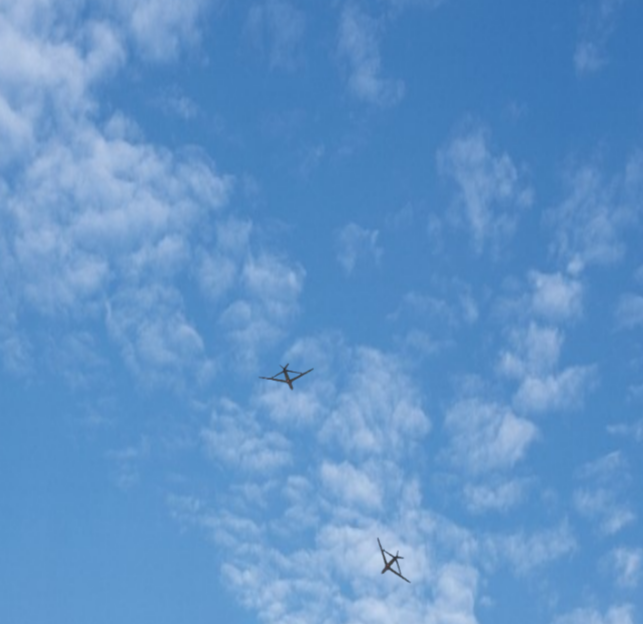military drone: (376, 537, 411, 583), (258, 363, 315, 390)
